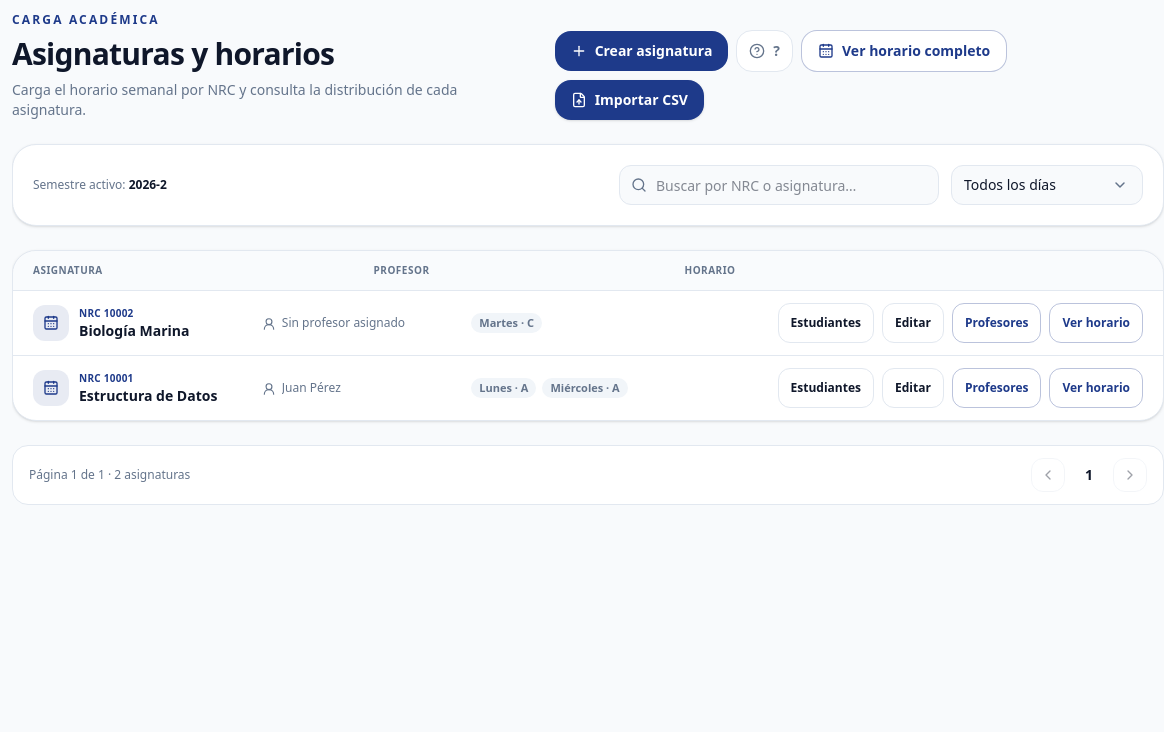
Test: SubjectsPage (asignaturas y horarios) › filtra por día y búsqueda
Expected: the heading "Estructura de Datos" is shown, [79,386,217,406]
Select "Martes" in the dropdown named "Filtrar por día del horario". click: x=1047, y=185
box: [951,165,1143,205]
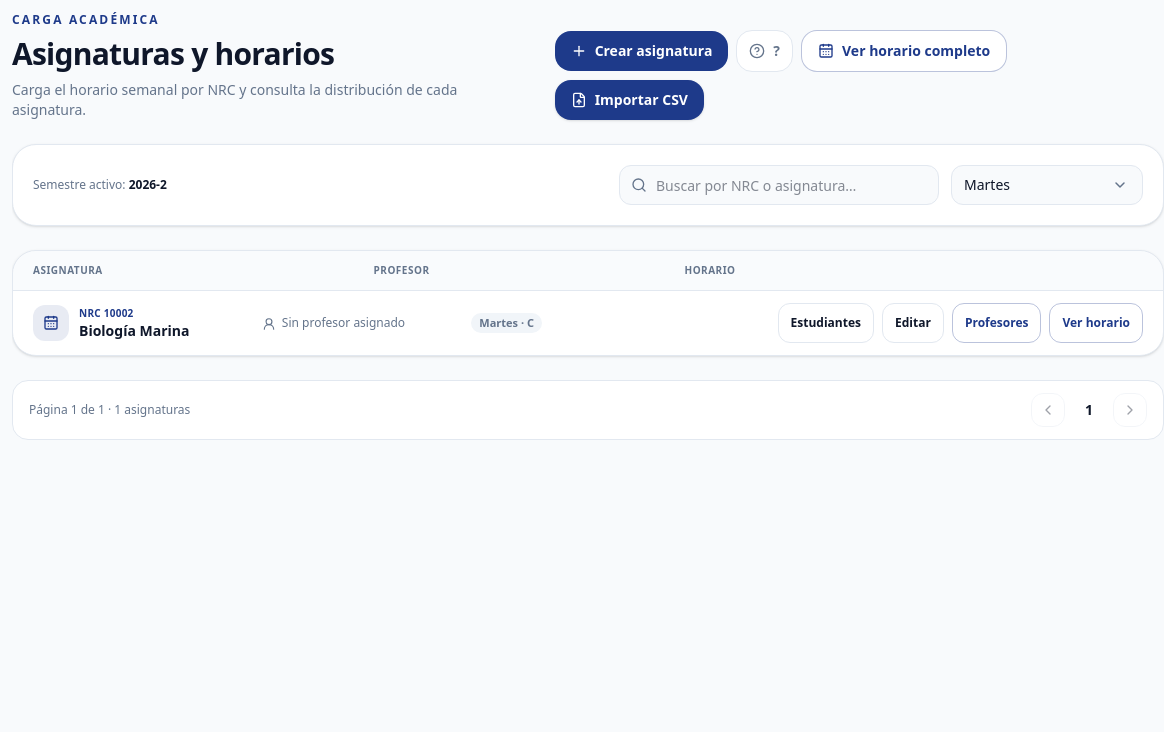
Expected: the heading "Biología Marina" is shown, [79,320,190,340]
Expected: the heading "Estructura de Datos" is gone
Select "Todos los días" in the dropdown named "Filtrar por día del horario". click: x=1047, y=185
box: [951,165,1143,205]
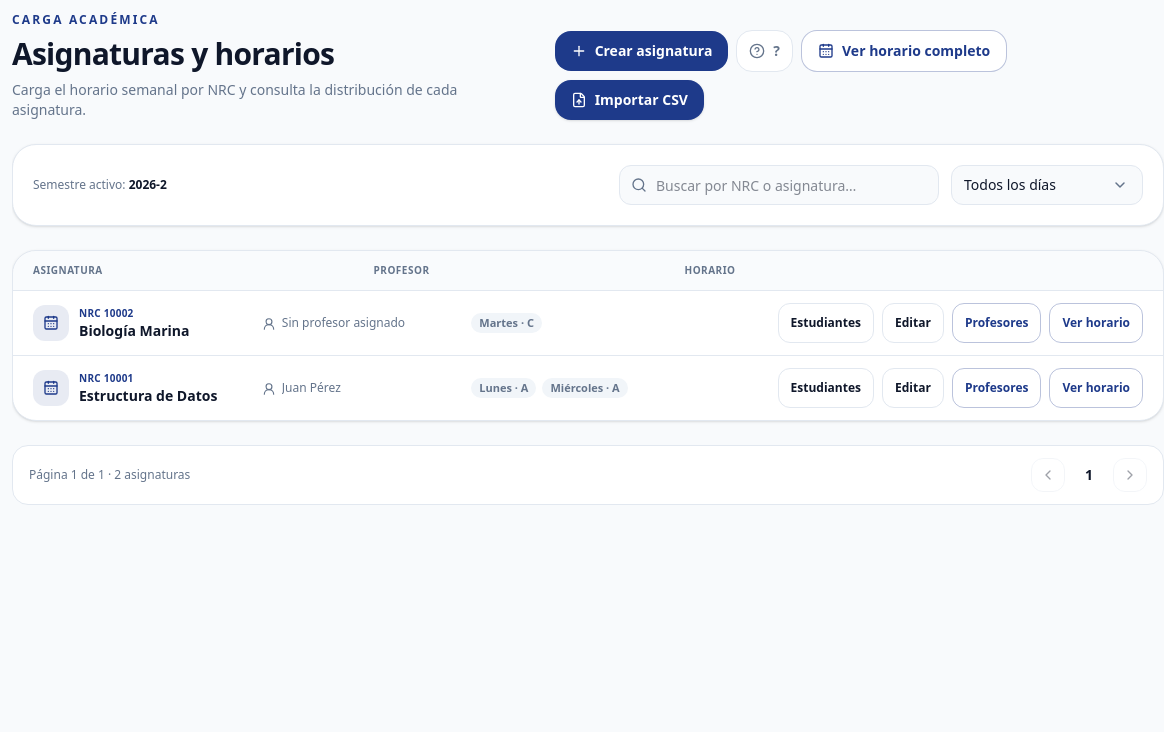
Type "10001" into the search field with placeholder "Buscar por NRC o asignatura…". click: x=779, y=185
box: [619,165,939,205]
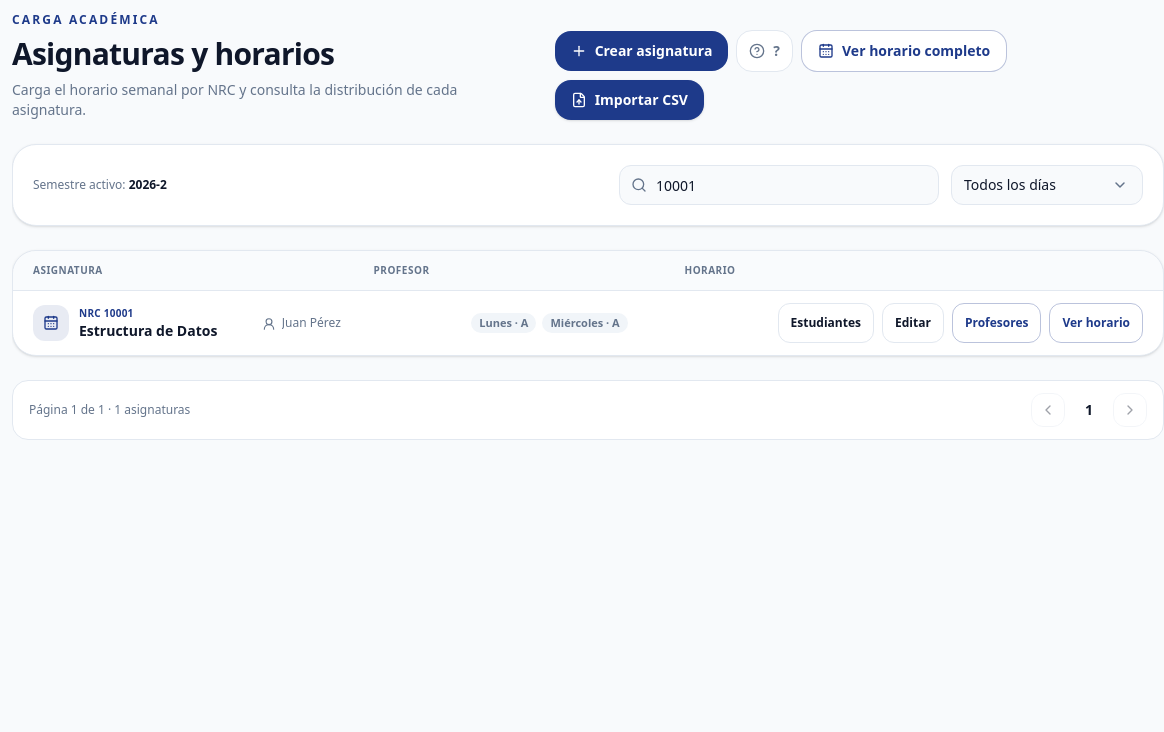
Expected: the heading "Estructura de Datos" is shown, [79,320,217,340]
Expected: the heading "Biología Marina" is gone
